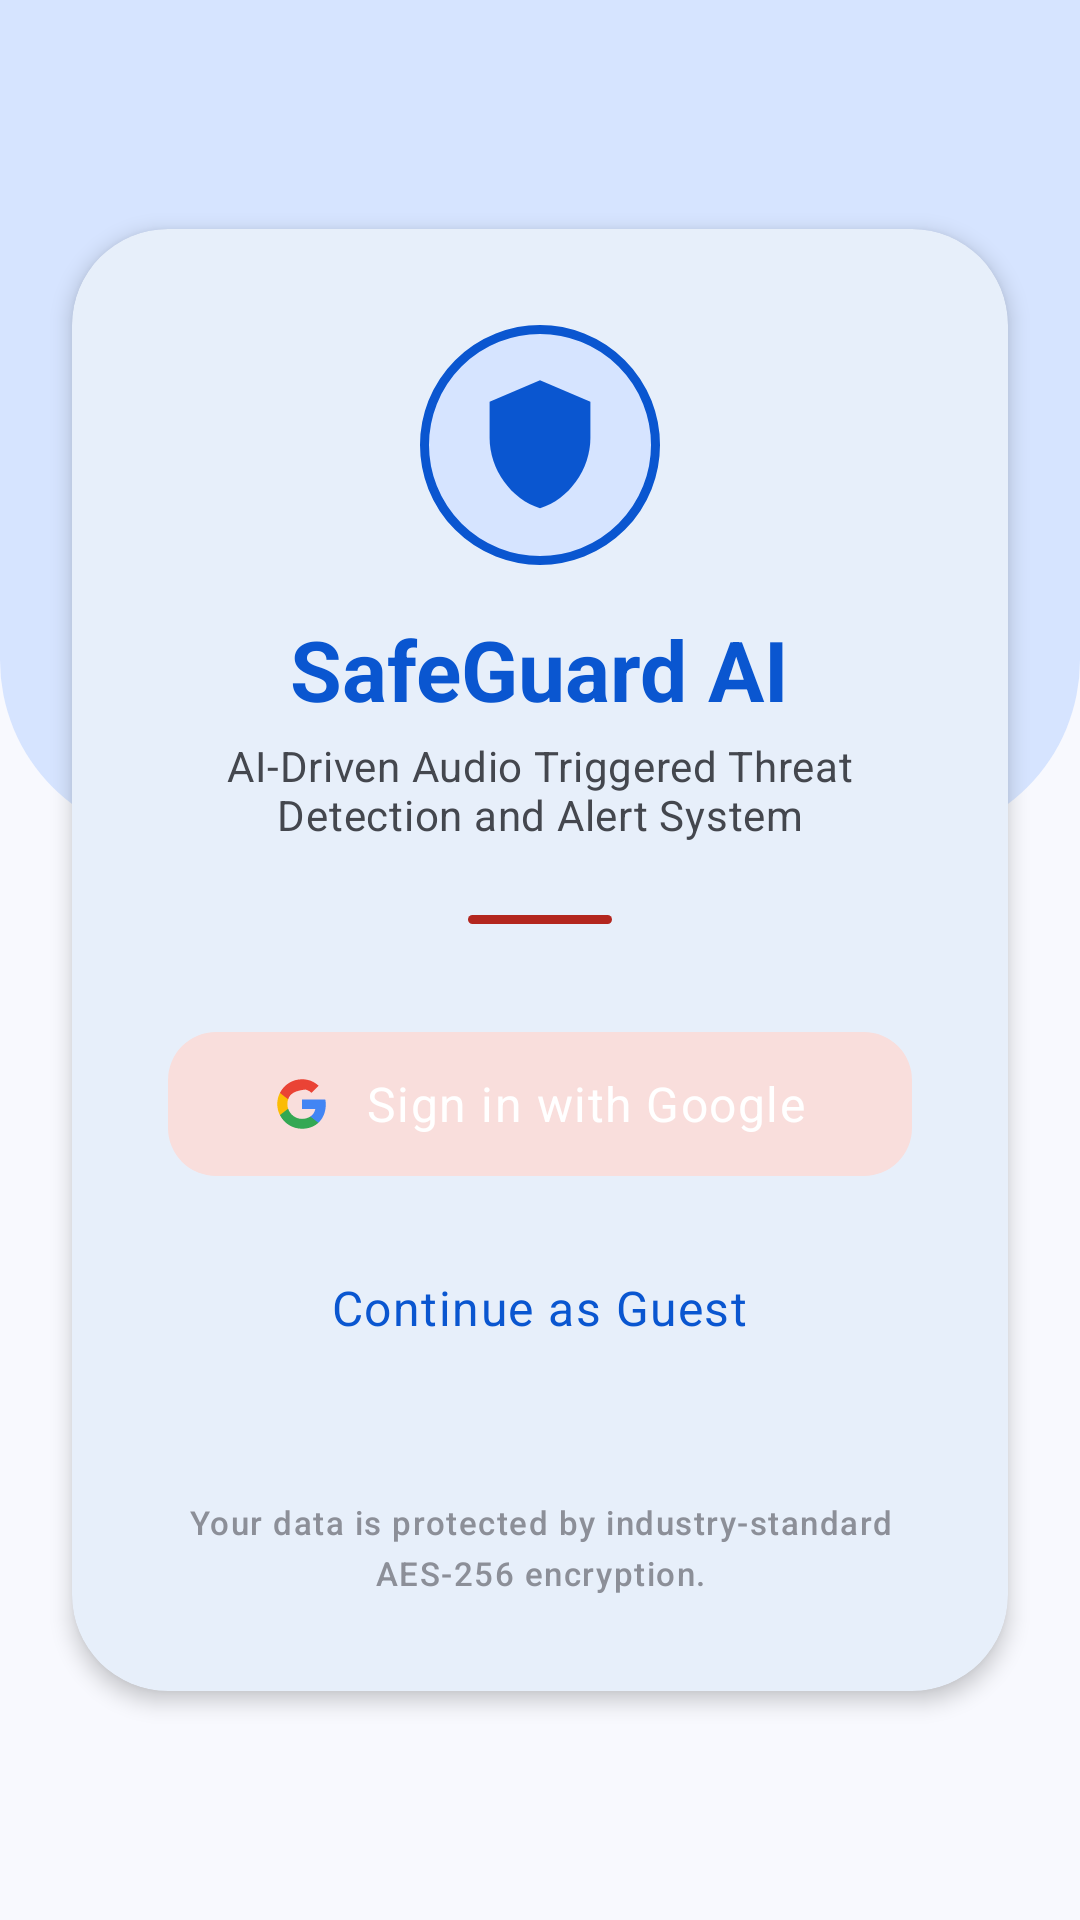

Locate icon controls on the screen. Image size 1080*1920, boxes as BBox(x1, y1, x2, y2).
shield ring: BBox(420, 325, 660, 565)
